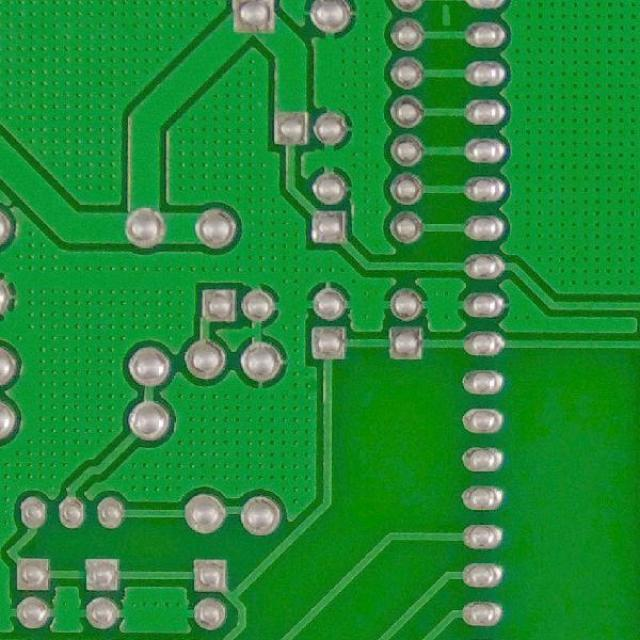Spurious_Cooper: (435, 0, 458, 31)
